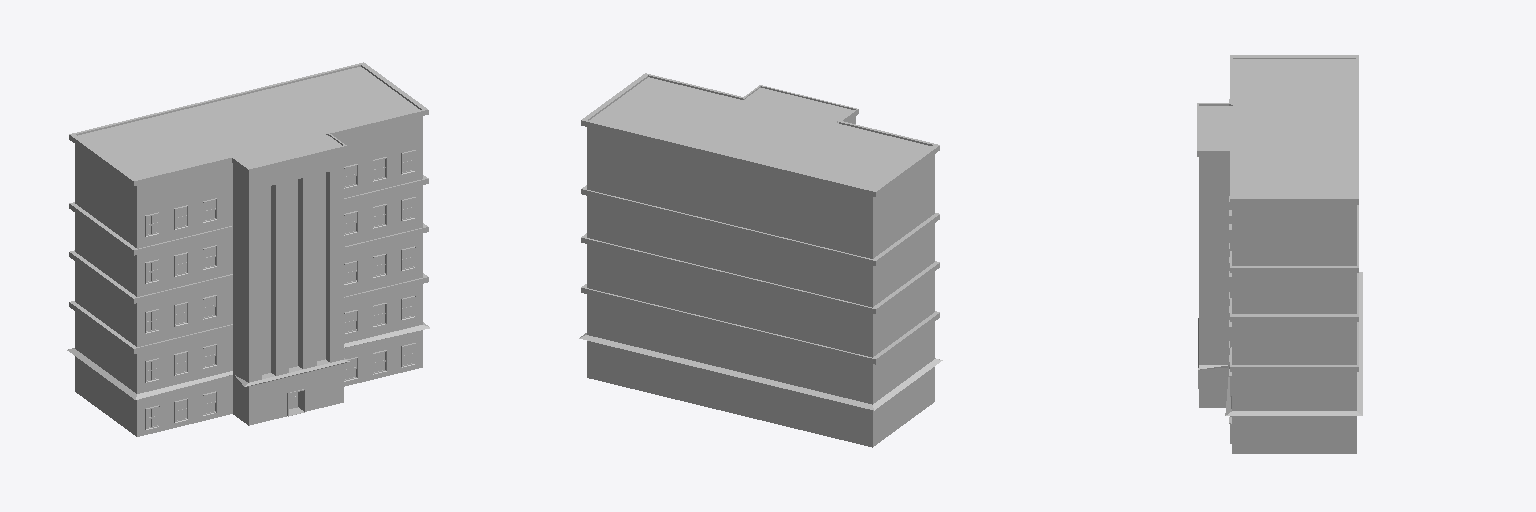
Rendered from blockbuilding.obj.
3 renders of one model, left to right at view 1: azimuth 30°, elevation 25°; view 2: azimuth 150°, elevation 25°; view 3: azimuth 270°, elevation 25°, orthographic.
Parts seen in each view (by area): view 1: pCube10, pCube1, pCube35, pCube39, pCube40, pCube41, pCube42, pCube38, pCube36, pCube37; view 2: pCube10, pCube1, pCube35, pCube37, pCube38, pCube36; view 3: pCube10, pCube1, pCube35, pCube37, pCube36, pCube38.
Boxes of the visible parts, <box> form: pCube10: <box>67,67,429,399</box>; pCube1: <box>75,330,422,436</box>; pCube35: <box>69,62,428,186</box>; pCube39: <box>145,150,415,236</box>; pCube40: <box>145,197,415,283</box>; pCube41: <box>145,246,415,333</box>; pCube42: <box>145,343,415,429</box>; pCube38: <box>69,273,428,353</box>; pCube36: <box>69,175,428,255</box>; pCube37: <box>69,223,428,303</box>; pCube10: <box>579,77,942,410</box>; pCube1: <box>587,341,934,447</box>; pCube35: <box>581,73,939,196</box>; pCube37: <box>581,233,939,313</box>; pCube38: <box>581,284,939,364</box>; pCube36: <box>581,185,939,265</box>; pCube10: <box>1198,59,1362,415</box>; pCube1: <box>1199,367,1356,453</box>; pCube35: <box>1197,55,1358,204</box>; pCube37: <box>1230,273,1358,321</box>; pCube36: <box>1230,205,1358,272</box>; pCube38: <box>1230,322,1358,371</box>.
Bounding box in the file's own units: 10.28 × 8.55 × 5.